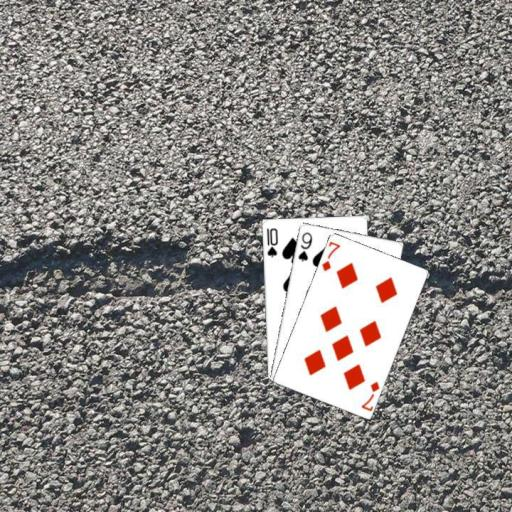10S: (263, 225, 279, 258)
7D: (319, 239, 342, 273), (358, 378, 381, 412)
9S: (295, 229, 314, 263)
